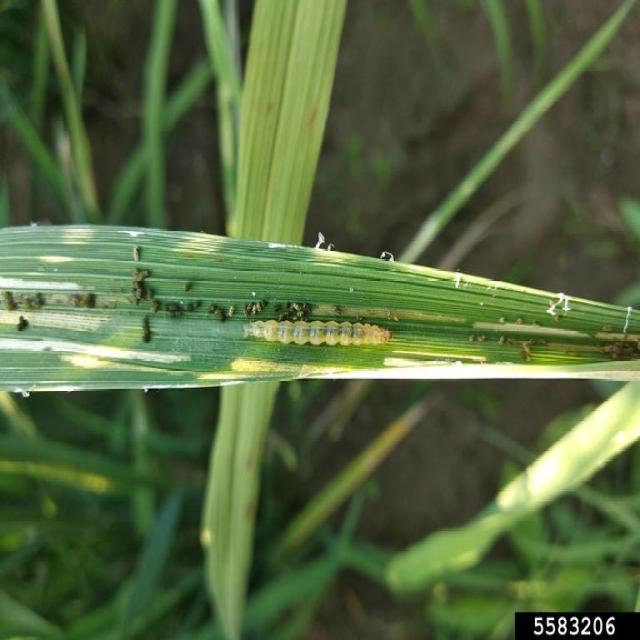Bacterial leaf blight: (3, 325, 204, 379), (402, 265, 591, 312), (369, 346, 512, 381), (35, 242, 90, 275), (175, 230, 237, 258), (310, 248, 368, 273)
